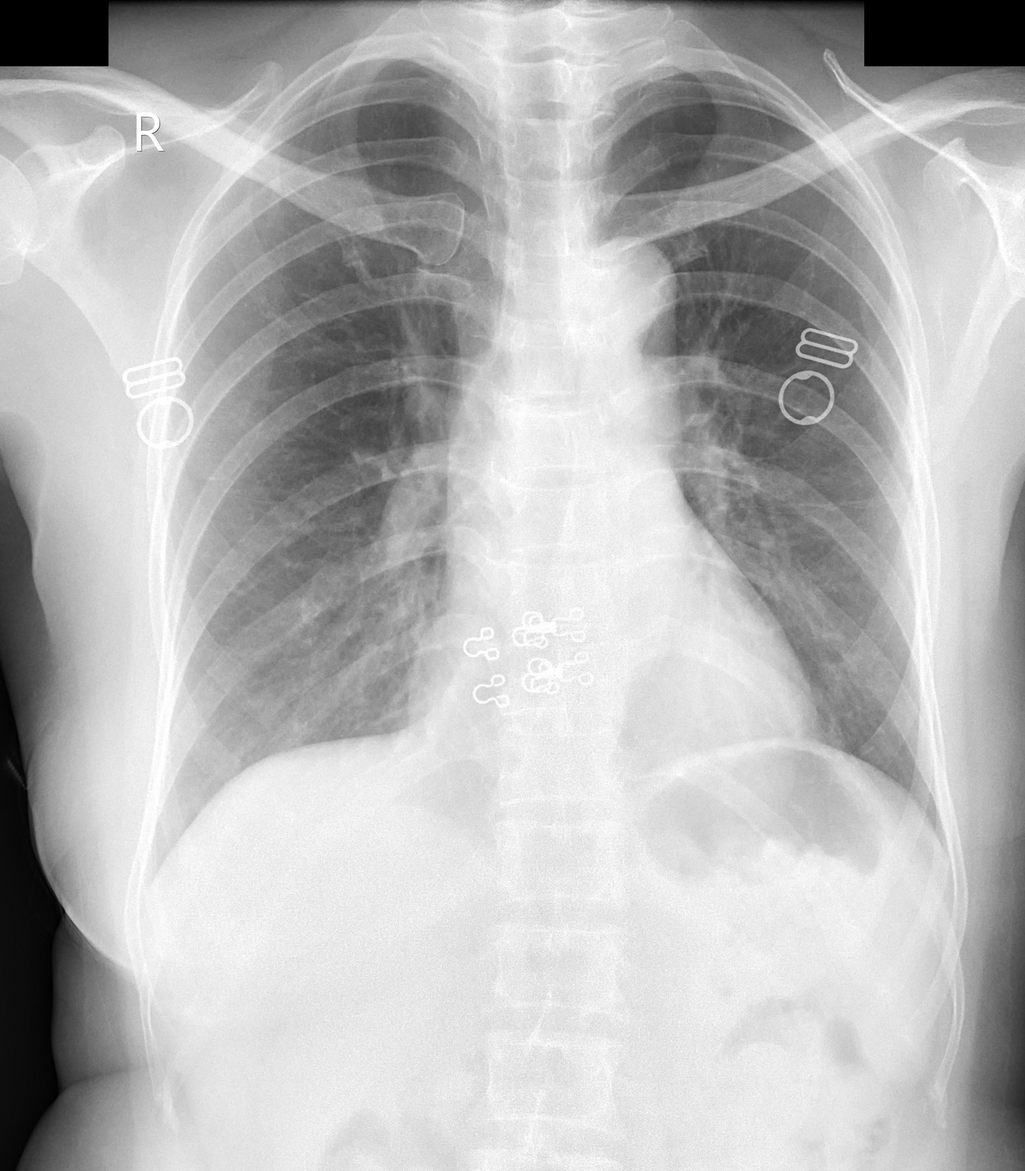Aortic enlargement: (563, 239, 677, 364)
Cardiomegaly: (400, 653, 825, 796)
